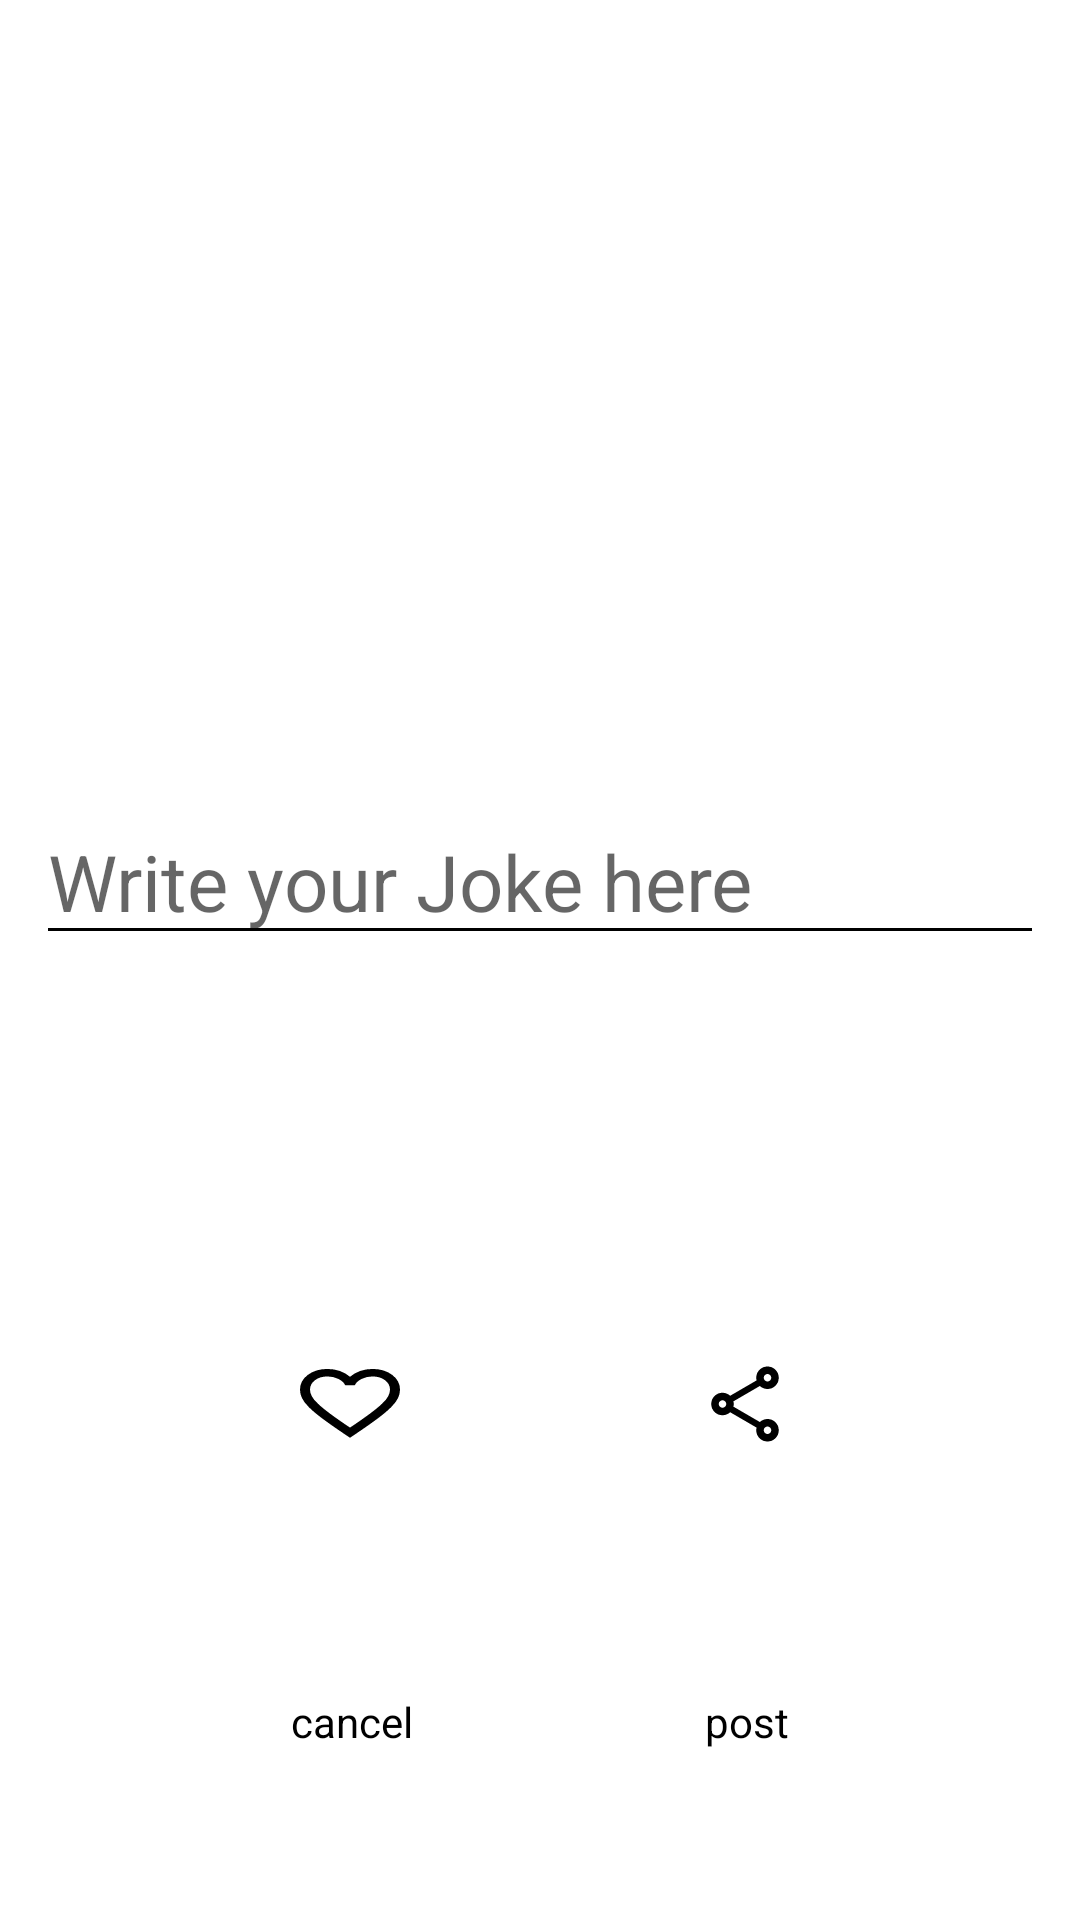

Point at icon controls on the screen. Image size 1080*1920, points as point (x, y).
heart: point (350, 1403)
share: point (745, 1404)
